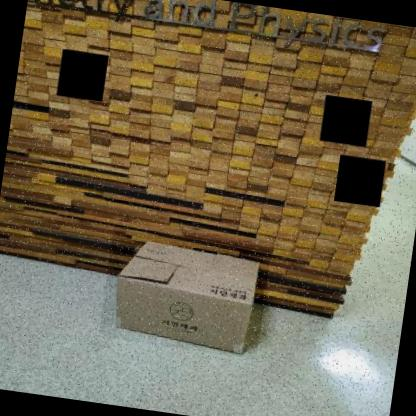box: (97, 225, 272, 359)
